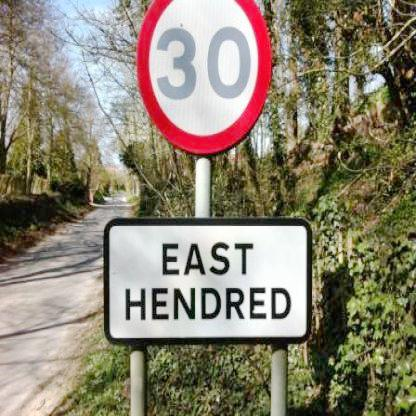Speed Limit -30-: (134, 0, 277, 154)
